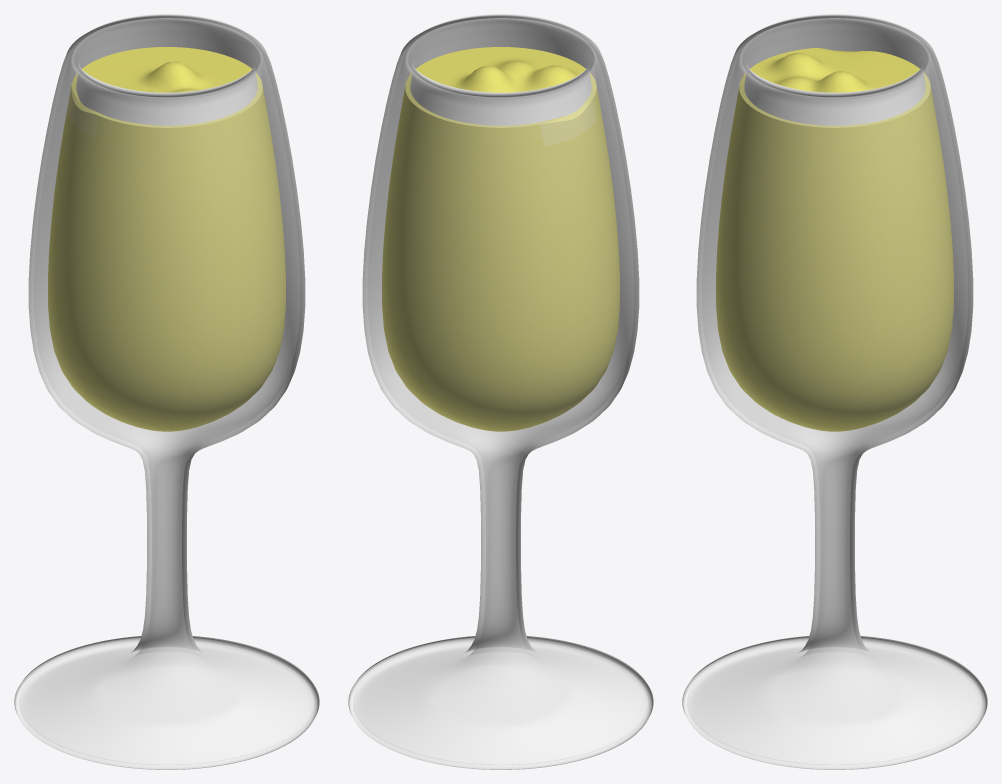
The model's file is Limoncello.gltf.
The picture shows the model from 3 angles, left to right: view 1: azimuth 30°, elevation 25°; view 2: azimuth 150°, elevation 25°; view 3: azimuth 270°, elevation 25°; orthographic projection.
Visible parts, largest first — view 1: Bicchiere, Acqua; view 2: Bicchiere, Acqua; view 3: Bicchiere, Acqua.
Part boxes in pixels (x1,y1,x2,y2): Bicchiere: (14,14,319,769); Acqua: (48,47,285,431); Bicchiere: (348,14,653,769); Acqua: (382,47,619,431); Bicchiere: (682,14,987,769); Acqua: (716,48,953,431).
Bounding box in the file's own units: 0.2477 × 0.5852 × 0.2477.
